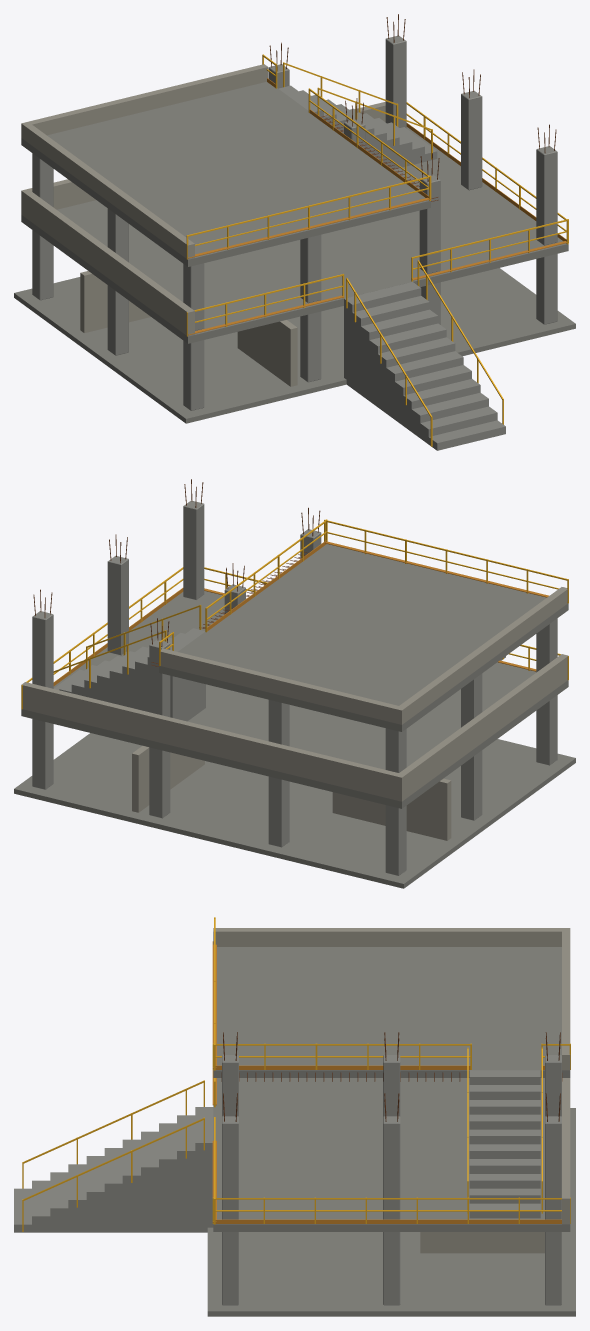
Rendered from gs-tower.glb.
3 views of the same model, one above another, from view 1: azimuth 30°, elevation 25°; view 2: azimuth 150°, elevation 25°; view 3: azimuth 270°, elevation 25° (orthographic). The views are drawn at different scales.
Visible parts, largest first — view 1: gs-tower; view 2: gs-tower; view 3: gs-tower.
Boxes of the visible parts, x1,y1,x2,y2 form: gs-tower: [14, 14, 575, 450]; gs-tower: [14, 479, 575, 888]; gs-tower: [14, 917, 575, 1316].
Bounding box in the file's own units: 17 × 8.2 × 19.84.
